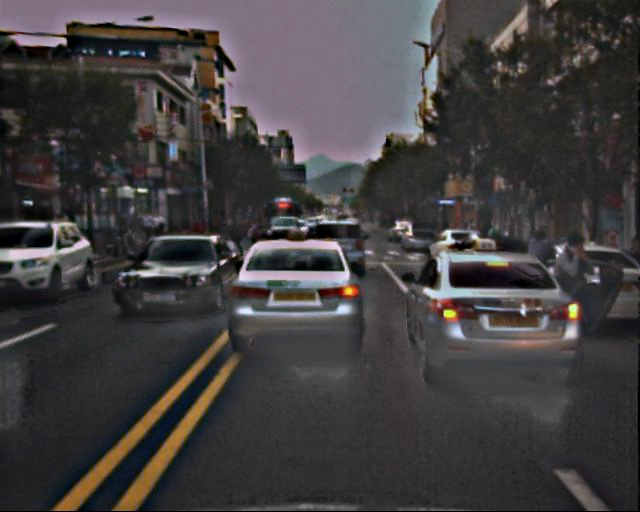person: (545, 233, 598, 363), (523, 230, 558, 316), (118, 209, 164, 243), (229, 212, 249, 260)
